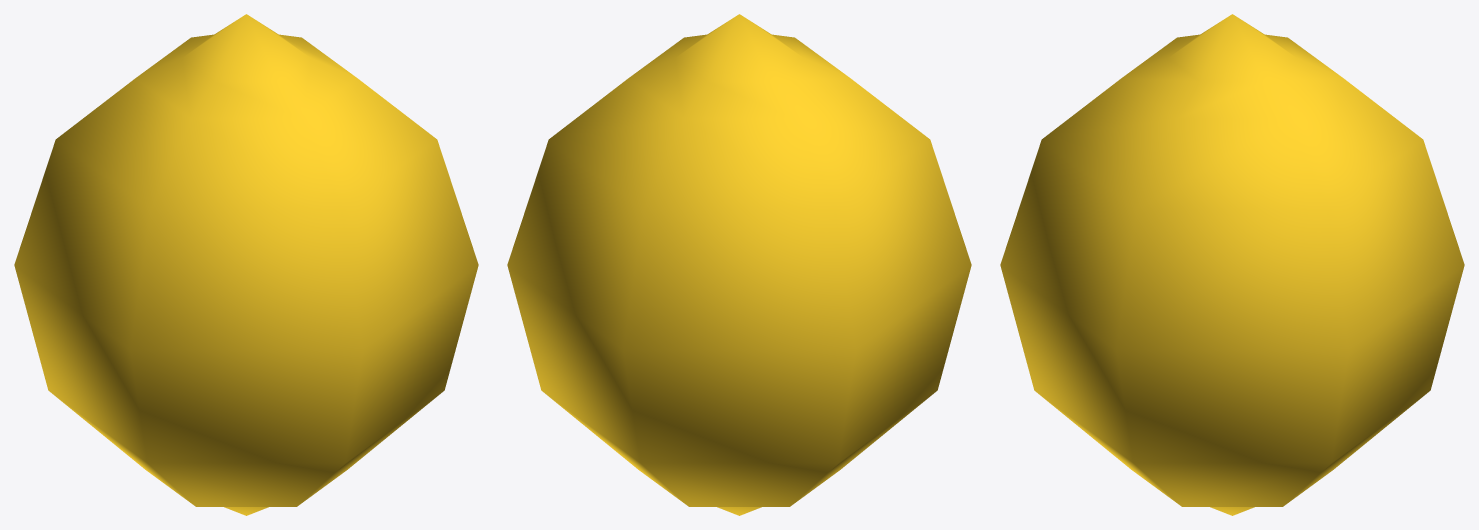
The model's file is FoodLemon_01.glb.
The picture shows the model from 3 angles, left to right: view 1: azimuth 30°, elevation 25°; view 2: azimuth 150°, elevation 25°; view 3: azimuth 270°, elevation 25°; orthographic projection.
Visible parts, largest first — view 1: FoodLemon_01; view 2: FoodLemon_01; view 3: FoodLemon_01.
Boxes of the visible parts, bbox=[...] form: FoodLemon_01: bbox=[14, 14, 478, 515]; FoodLemon_01: bbox=[507, 14, 971, 515]; FoodLemon_01: bbox=[1000, 14, 1464, 515].
Size of the model in its own units: 0.1511 by 0.2081 by 0.1745.
1 material, 1 textured.
